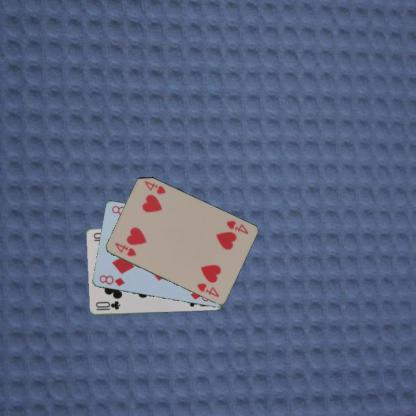10c: (93, 299, 121, 311)
4h: (223, 218, 250, 236), (111, 240, 137, 258)
8d: (96, 273, 126, 287)
